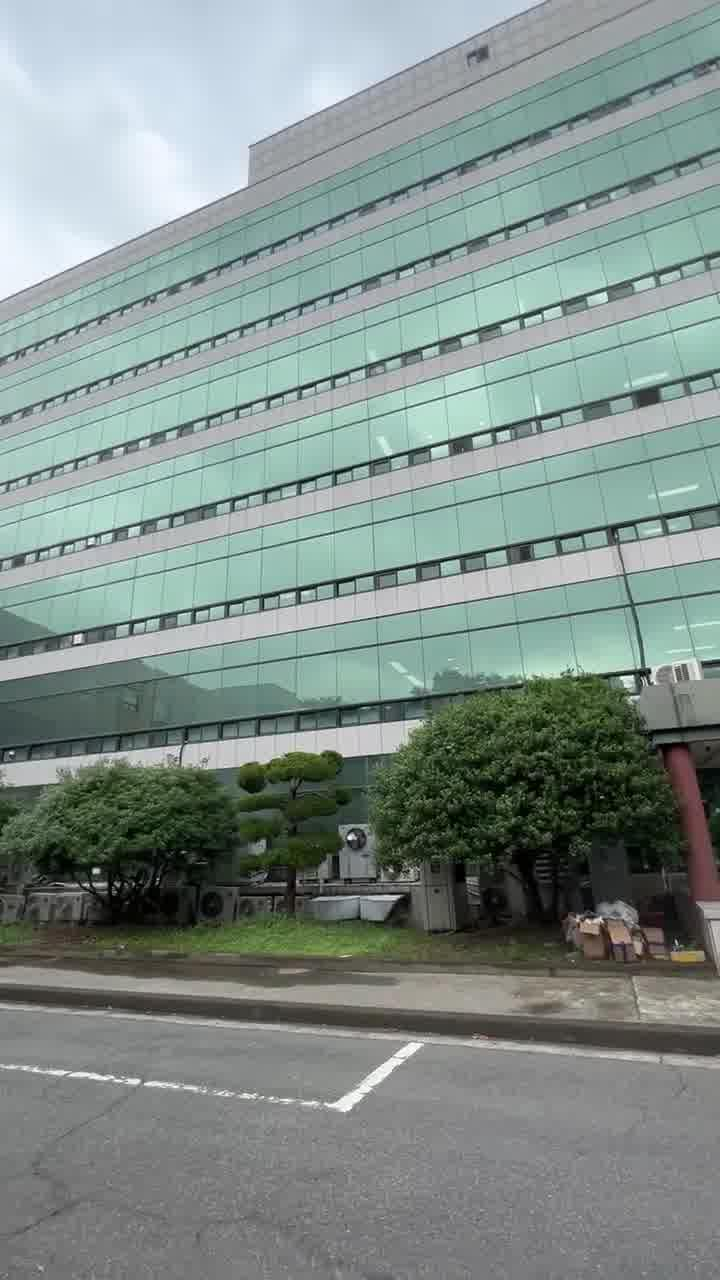building: (42, 102, 692, 642)
